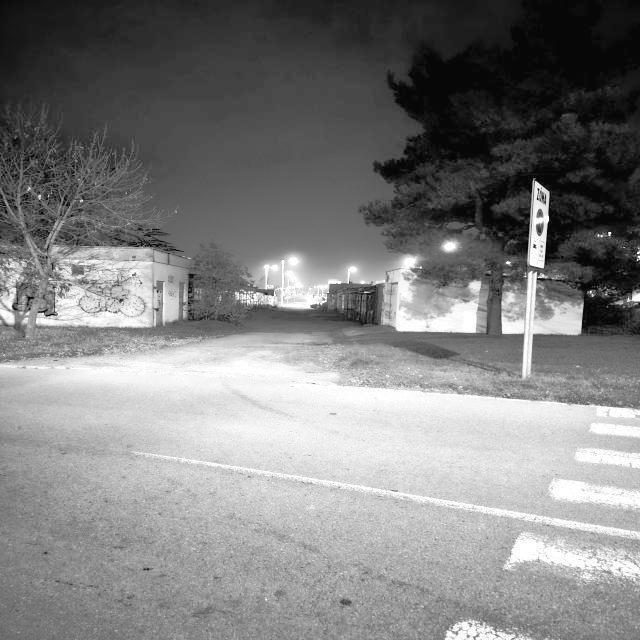Sign: (530, 180, 548, 274)
Tree: (2, 114, 137, 337)
